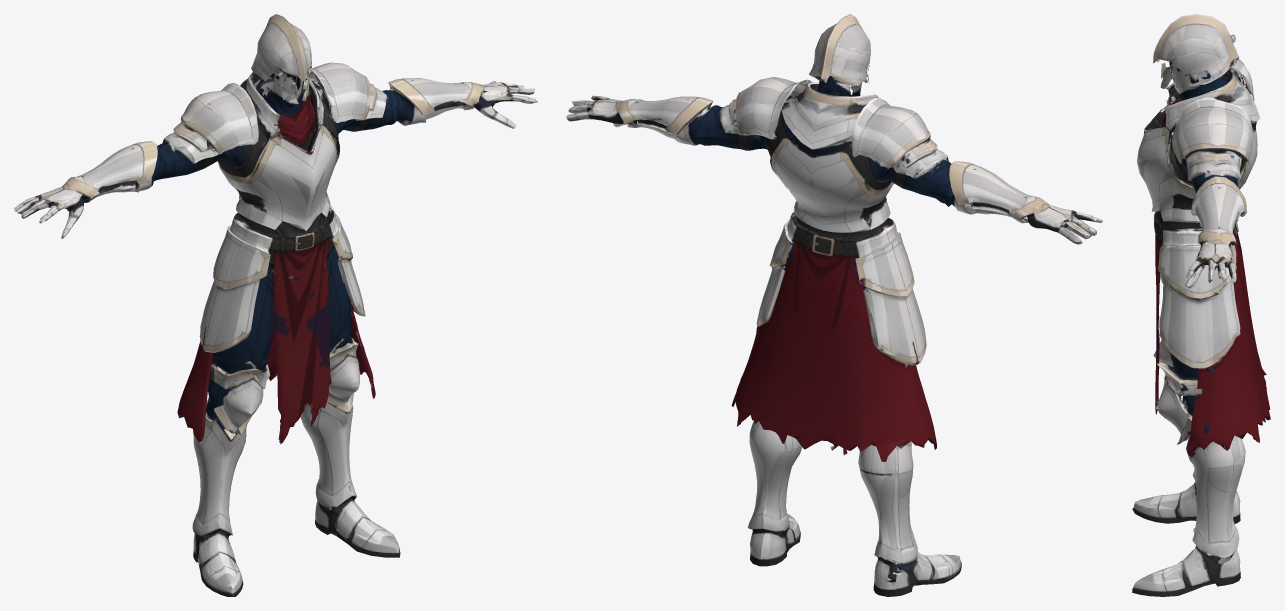
The model's file is warrior-v1.glb.
3 views of the same model, side by side, from view 1: azimuth 30°, elevation 25°; view 2: azimuth 150°, elevation 25°; view 3: azimuth 270°, elevation 25° (orthographic). The views are drawn at different scales.
Bounding box in the file's own units: 1.88 × 1.88 × 0.4402.
1 material, 1 textured.
